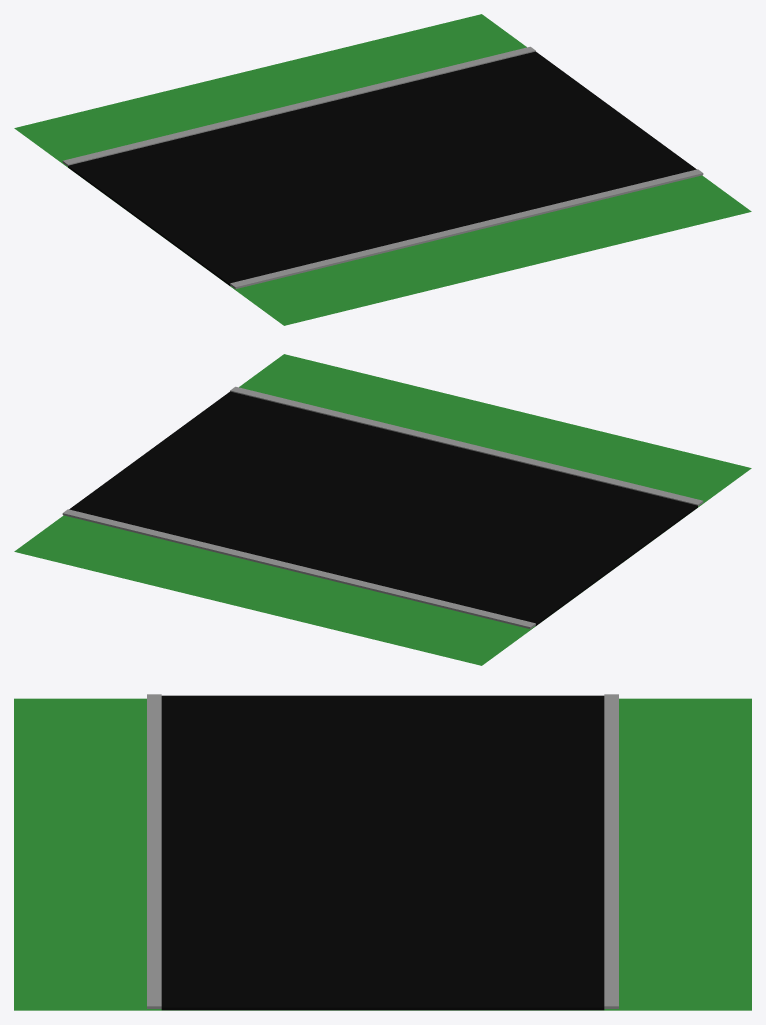
The model's file is Bundesstraße.fbx.
The picture shows the model from 3 angles, top to bottom: view 1: azimuth 30°, elevation 25°; view 2: azimuth 150°, elevation 25°; view 3: azimuth 270°, elevation 25°; orthographic projection. The views are drawn at different scales.
Visible parts, largest first — view 1: Street, Plane; view 2: Street, Plane; view 3: Street, Plane.
Boxes of the visible parts, box(x1,y1,x2,y2) form: Street: box(62, 46, 703, 289); Plane: box(14, 14, 751, 325); Street: box(62, 386, 703, 629); Plane: box(14, 354, 751, 665); Street: box(147, 694, 618, 1010); Plane: box(14, 698, 751, 1010).
Size of the model in its own units: 2500 by 15.55 by 2500.
